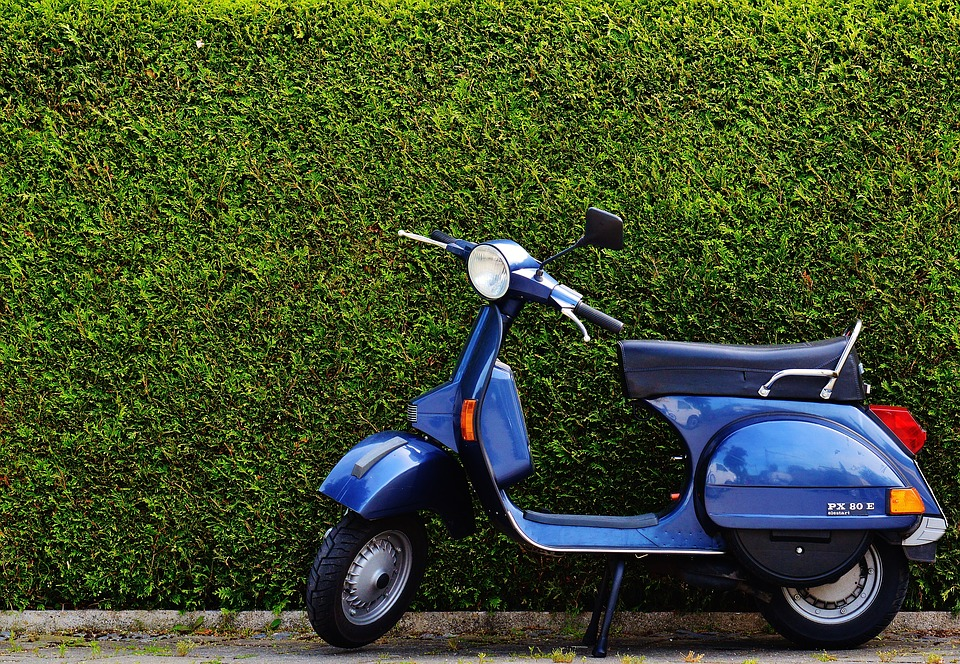motorcycle: (311, 219, 944, 644)
